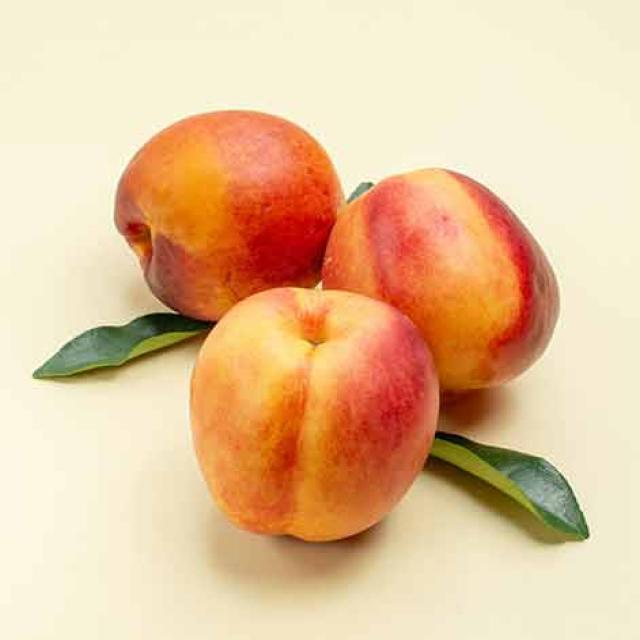peach: (192, 288, 438, 540), (321, 168, 554, 392), (115, 110, 342, 320)
